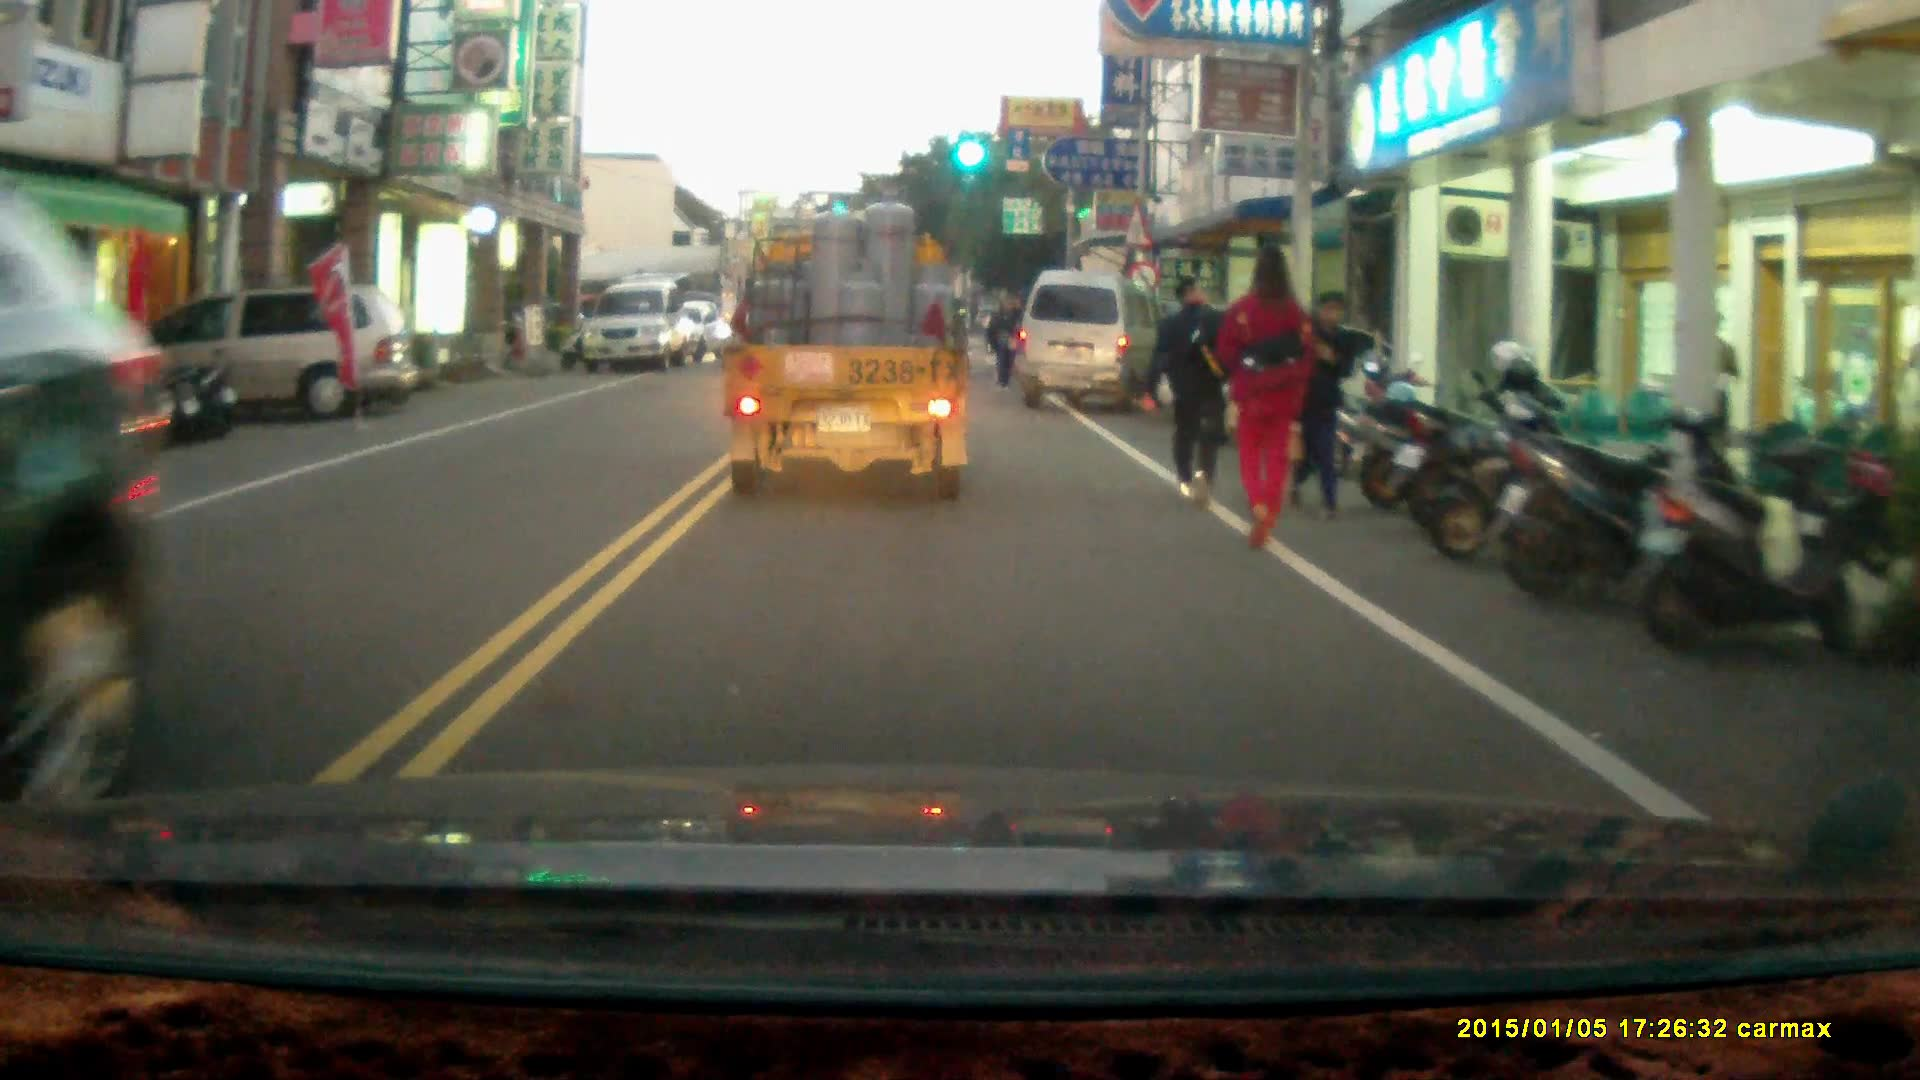pedestrian: (1220, 239, 1312, 561), (1143, 272, 1232, 504), (1290, 286, 1355, 519), (988, 297, 1023, 392)
vehicle: (714, 187, 978, 512), (123, 290, 415, 423), (1020, 270, 1166, 413), (588, 279, 703, 374)
